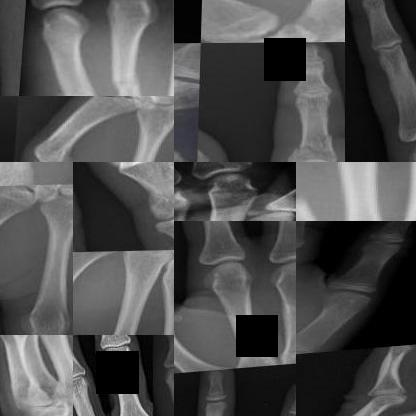fracture: (98, 162, 173, 185), (109, 57, 154, 95), (288, 131, 345, 161), (53, 69, 105, 95), (276, 304, 295, 342), (296, 179, 311, 220), (379, 348, 415, 360)
